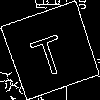T: (25, 25, 70, 79)
